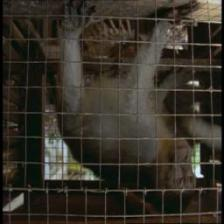monkey: (152, 134, 198, 200)
